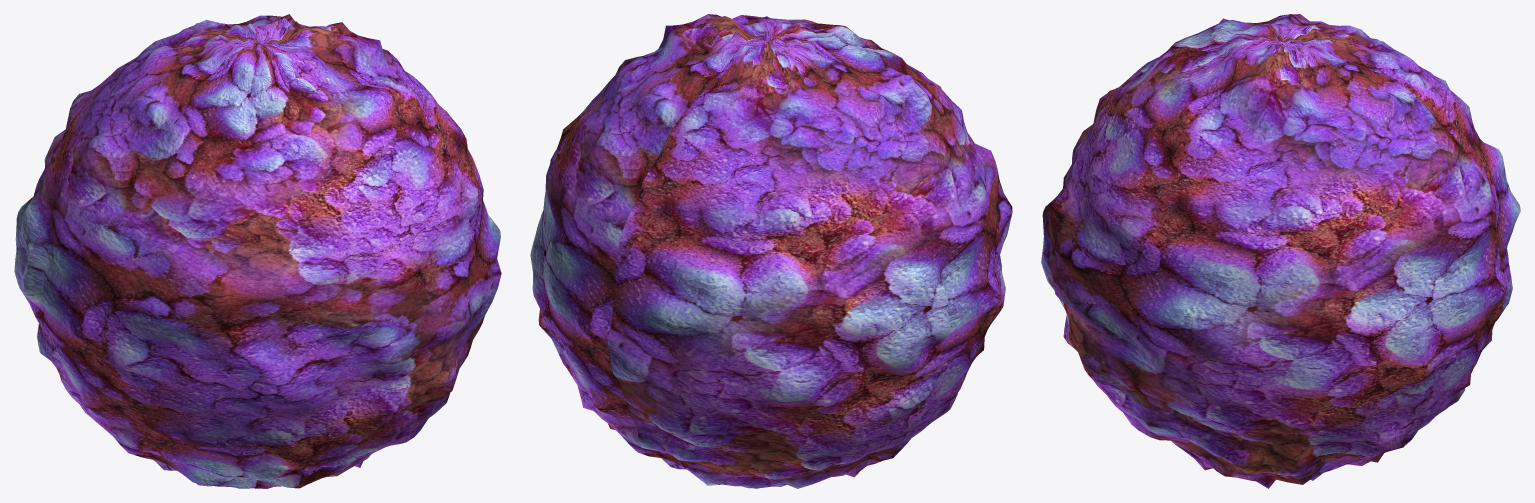
Rendered from rhino-8k.fbx.
3 views of the same model, side by side, from view 1: azimuth 30°, elevation 25°; view 2: azimuth 150°, elevation 25°; view 3: azimuth 270°, elevation 25° (orthographic). The views are drawn at different scales.
Parts seen in each view (by area): view 1: GeoSphere003; view 2: GeoSphere003; view 3: GeoSphere003.
Boxes of the visible parts, box(x1,y1,x2,y2) form: GeoSphere003: box(14, 14, 501, 488); GeoSphere003: box(530, 14, 1012, 488); GeoSphere003: box(1041, 14, 1520, 488).
Size of the model in its own units: 108 by 110 by 112.
1 material, 1 textured.
